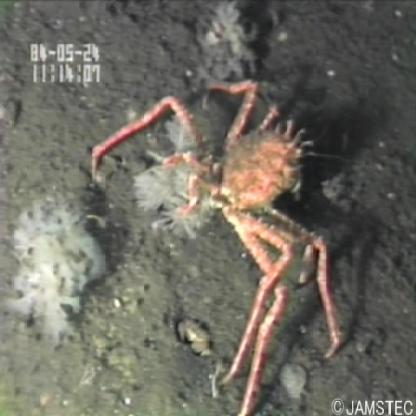Bio: (86, 73, 345, 416)
